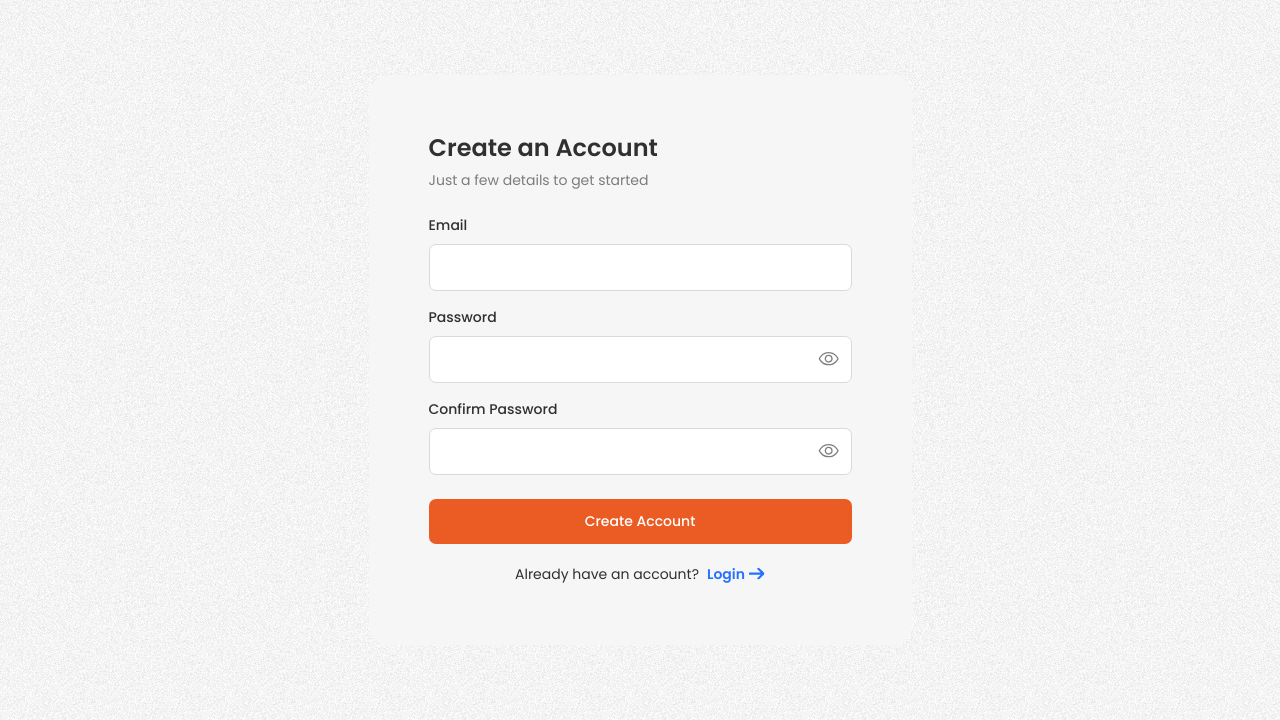
Test case: SignUp Component › shows error when passwords do not match
Note: Fill out form with non-matching passwords
In the field labelled "Email": (640, 267) [428,244,852,291], type "test@example.com"
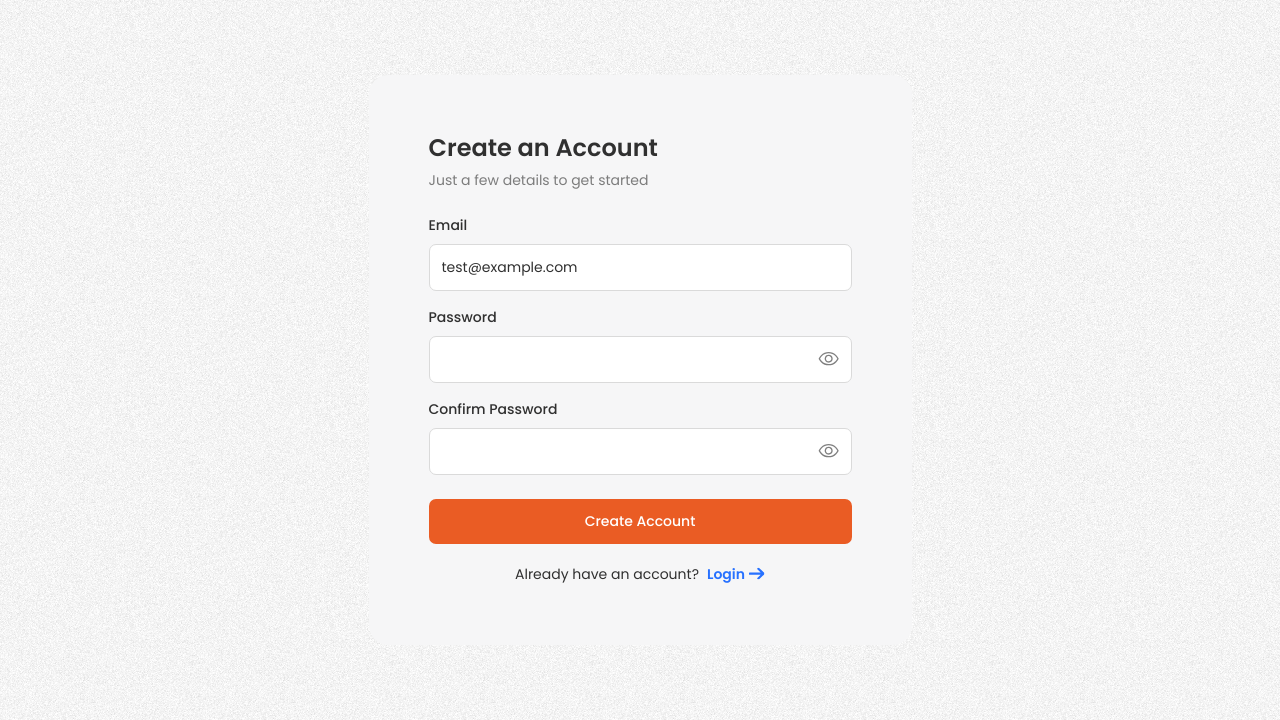
In the password field named "password": (640, 359) [428,336,852,383], type "password123"
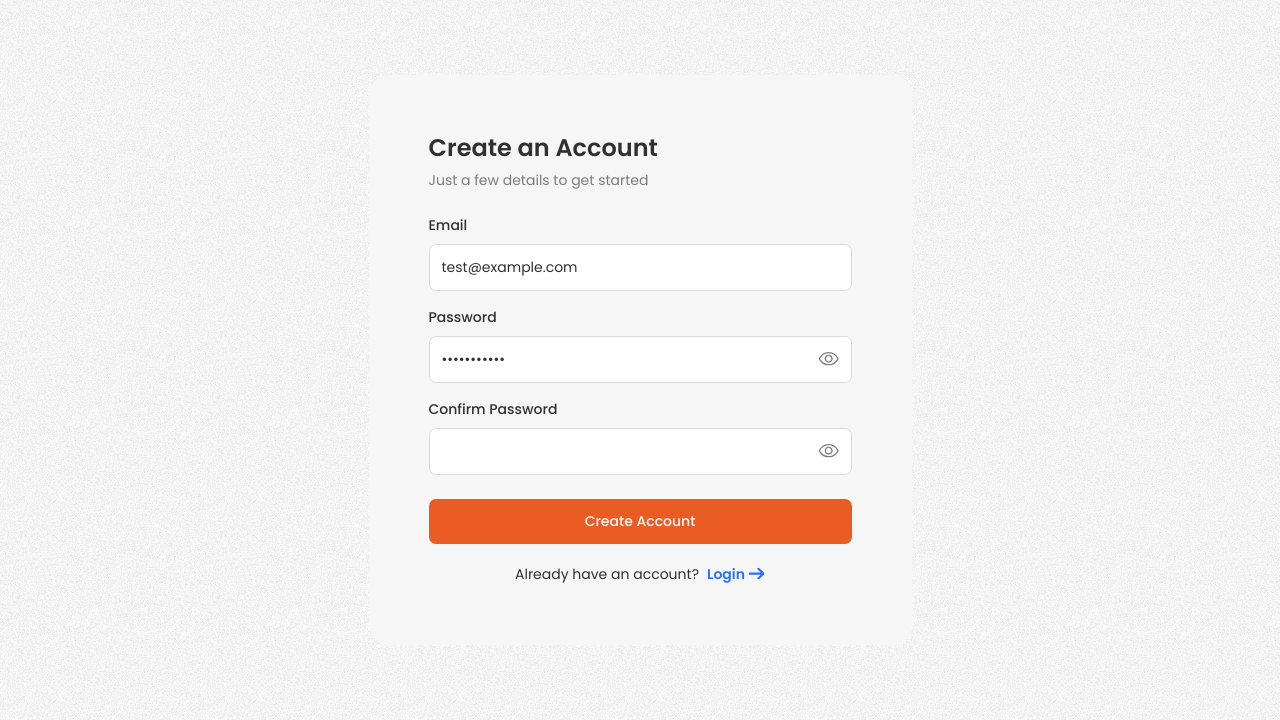
In the password field named "confirmPassword": (640, 451) [428,428,852,475], type "different123"
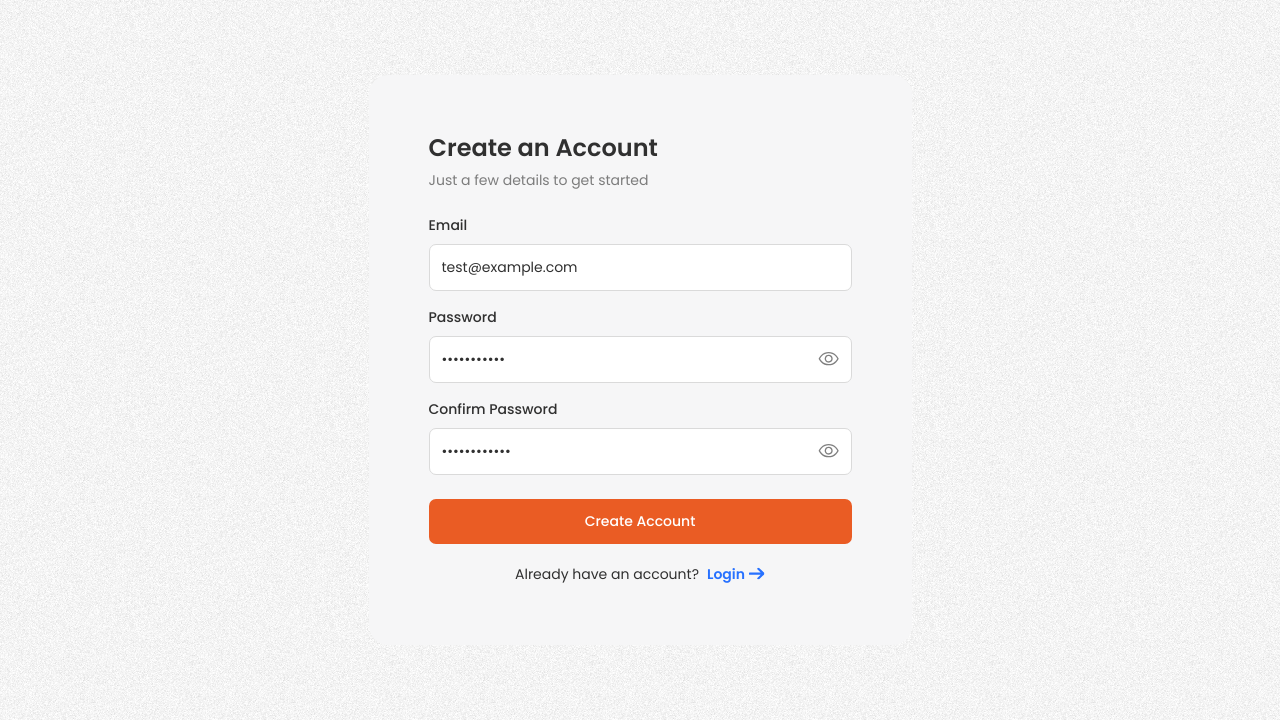
Note: Submit the form
Click the submit button: (640, 521) [428,499,852,544]
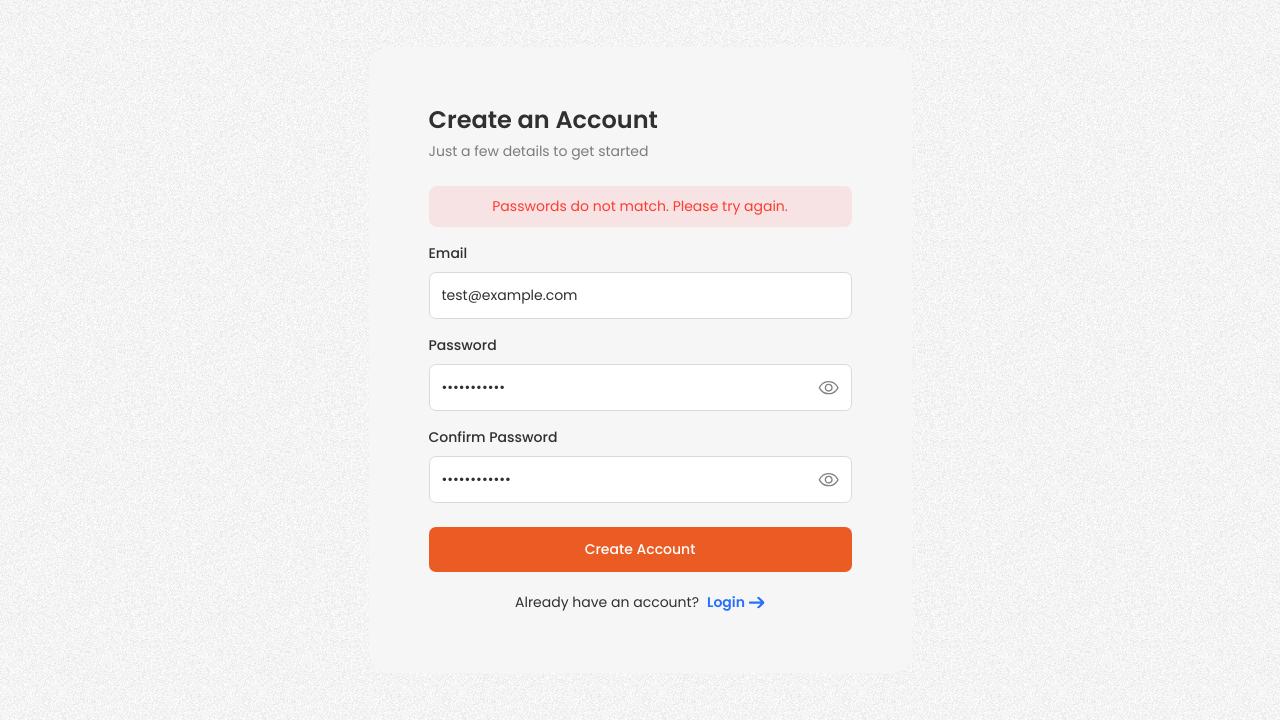
Check: the text "Passwords do not match. Please try again." is shown, box [428,186,852,227]
